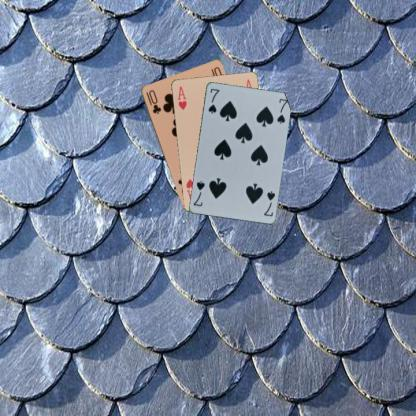10c: (144, 87, 162, 115)
7s: (261, 188, 276, 218), (206, 86, 220, 115)
Ah: (174, 84, 188, 111)
